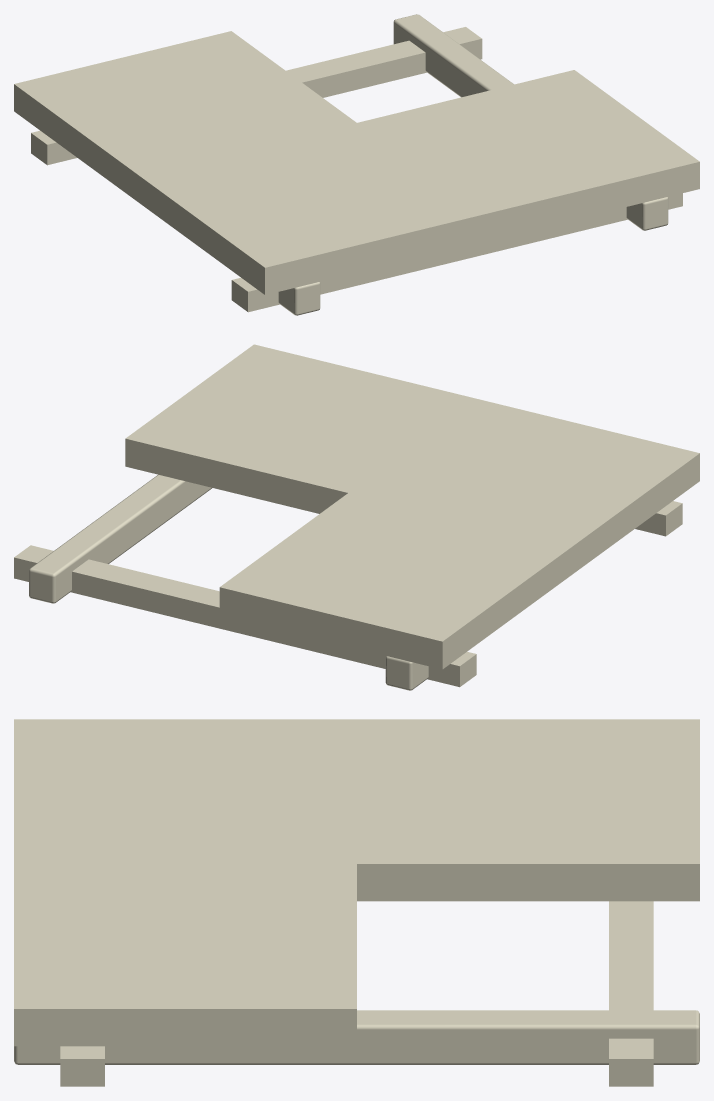
The model's file is bunker-shelter-construction-shelter-corner-floor-a1845d87__23297.glb.
3 renders of one model, top to bottom at view 1: azimuth 30°, elevation 25°; view 2: azimuth 150°, elevation 25°; view 3: azimuth 270°, elevation 25°, orthographic. The views are drawn at different scales.
Parts seen in each view (by area): view 1: shelter-corner-floor; view 2: shelter-corner-floor; view 3: shelter-corner-floor.
Boxes of the visible parts, bbox=[...] form: shelter-corner-floor: bbox=[14, 14, 699, 315]; shelter-corner-floor: bbox=[14, 344, 699, 690]; shelter-corner-floor: bbox=[14, 719, 699, 1086].
Size of the model in its own units: 2 by 0.25 by 2.
